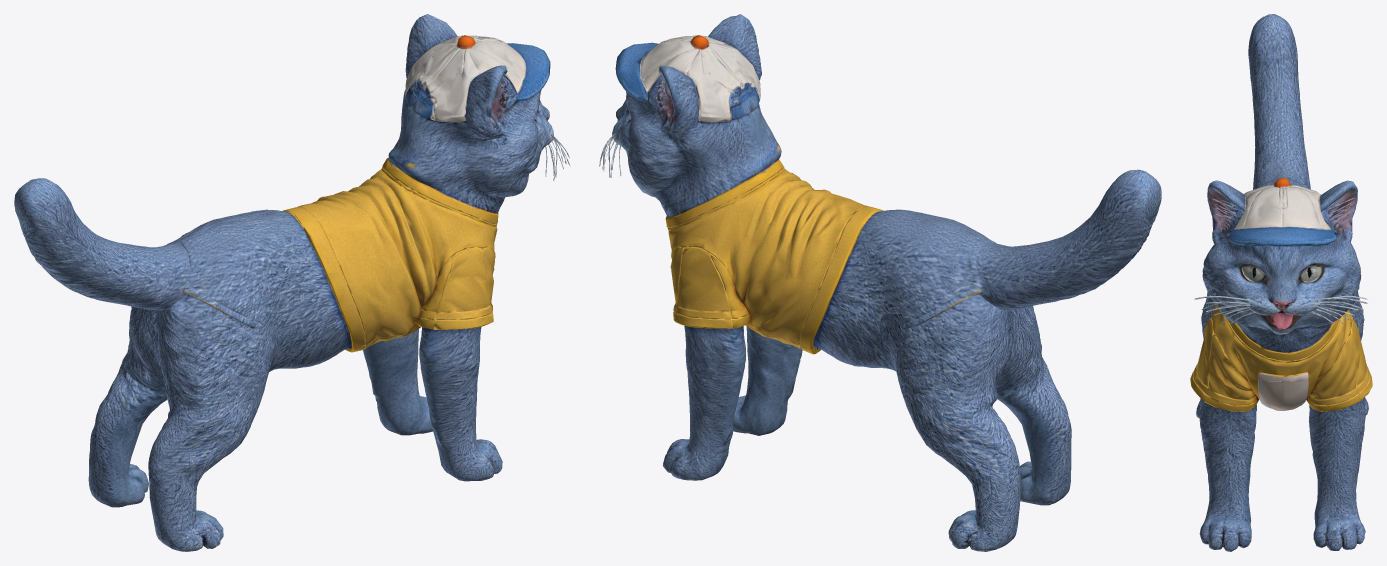
Rendered from COOLBLUE.glb.
3 views of the same model, side by side, from view 1: azimuth 30°, elevation 25°; view 2: azimuth 150°, elevation 25°; view 3: azimuth 270°, elevation 25° (orthographic). The views are drawn at different scales.
Visible parts, largest first — view 1: tripo_node_a90abf23-28dd-4ba5-aa91-ad6706fa4d85; view 2: tripo_node_a90abf23-28dd-4ba5-aa91-ad6706fa4d85; view 3: tripo_node_a90abf23-28dd-4ba5-aa91-ad6706fa4d85.
Part boxes in pixels (x1,y1,x2,y2): tripo_node_a90abf23-28dd-4ba5-aa91-ad6706fa4d85: (14,14,570,551); tripo_node_a90abf23-28dd-4ba5-aa91-ad6706fa4d85: (599,14,1161,551); tripo_node_a90abf23-28dd-4ba5-aa91-ad6706fa4d85: (1190,14,1372,551).
Size of the model in its own units: 1.37 by 0.9979 by 0.4408.
1 material, 1 textured.
